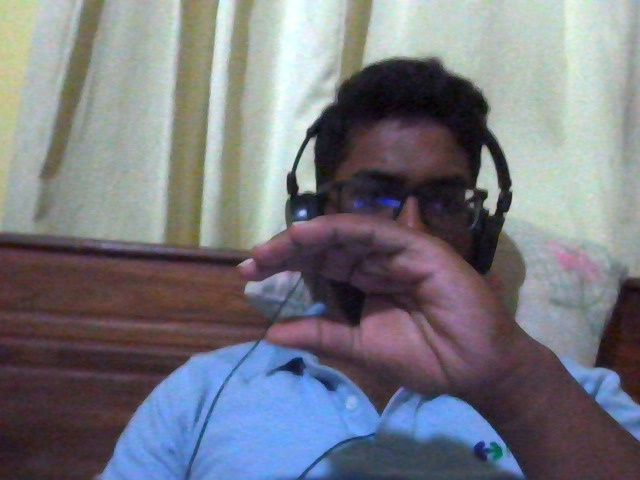No: (171, 145, 544, 426)
